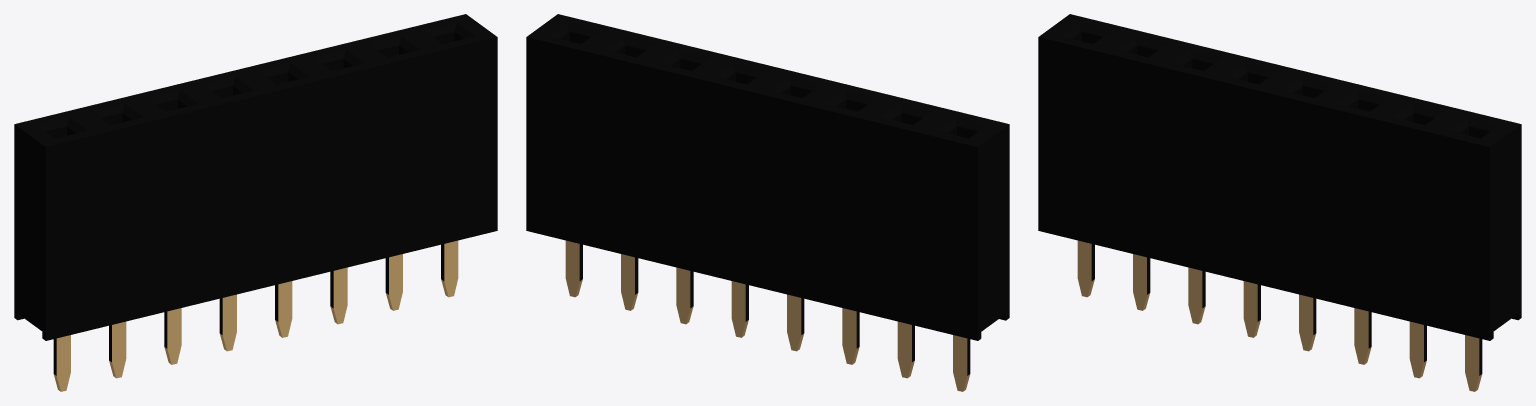
The picture shows the model from 3 angles, left to right: view 1: azimuth 30°, elevation 25°; view 2: azimuth 150°, elevation 25°; view 3: azimuth 330°, elevation 25°; orthographic projection.
Visible parts, largest first — view 1: _1895; view 2: _1895; view 3: _1895.
Part boxes in pixels (x1=…): _1895: x1=14, y1=14, x2=497, y2=391; _1895: x1=526, y1=14, x2=1009, y2=391; _1895: x1=1038, y1=14, x2=1521, y2=391.
Size of the model in its own units: 20.72 by 2.5 by 11.5.
